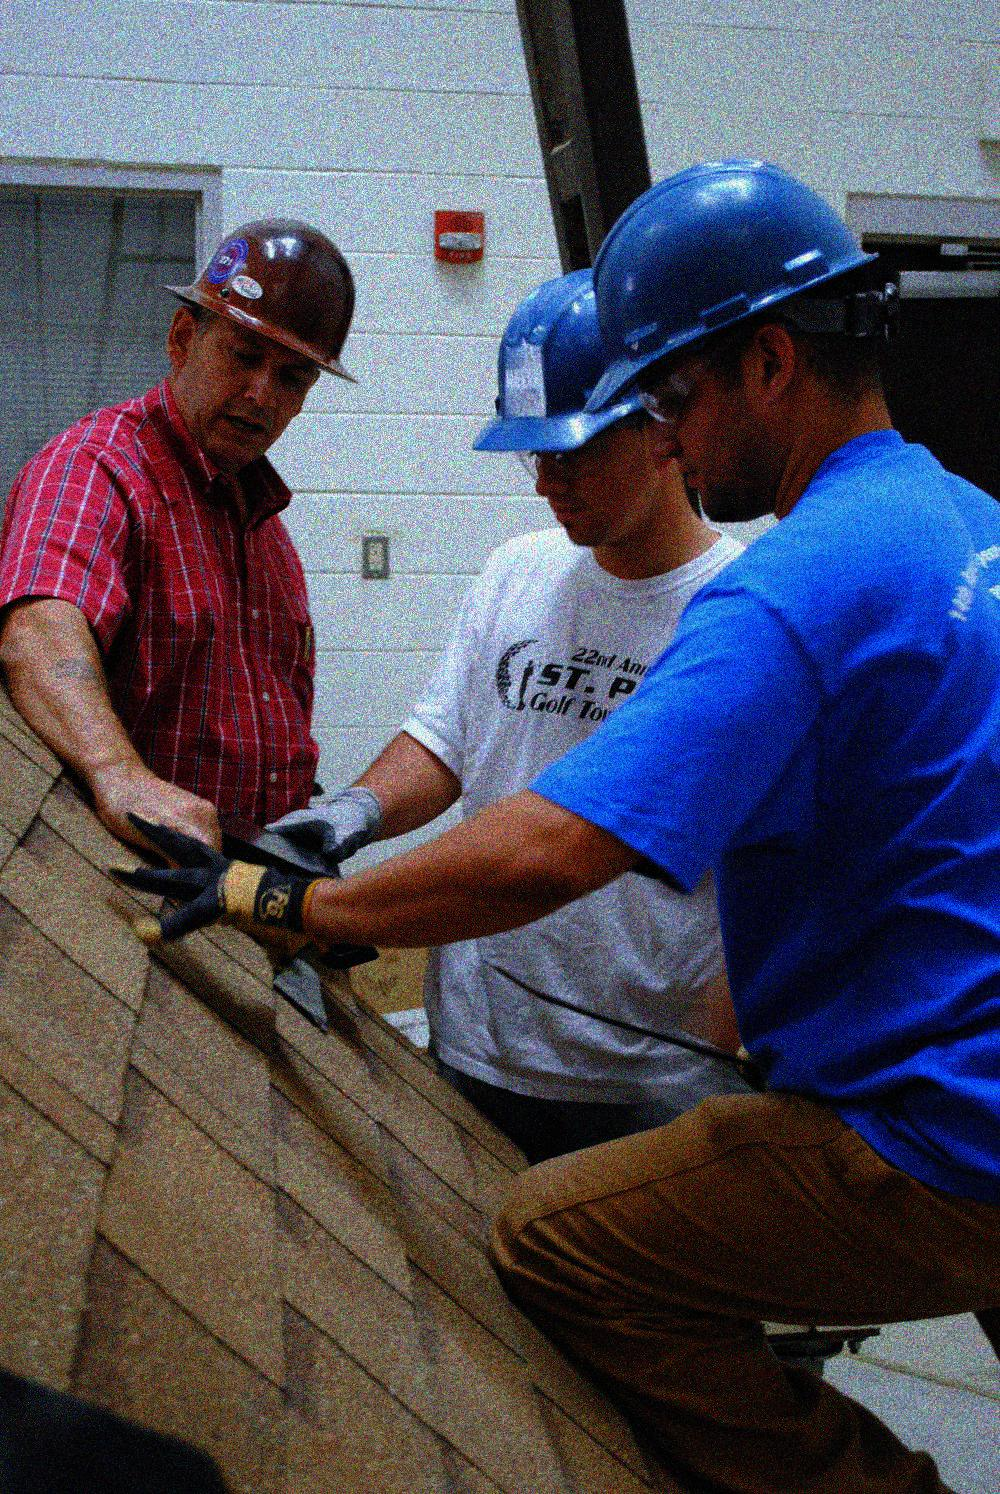helmet: (586, 158, 898, 524), (478, 263, 669, 546), (158, 213, 357, 459)
